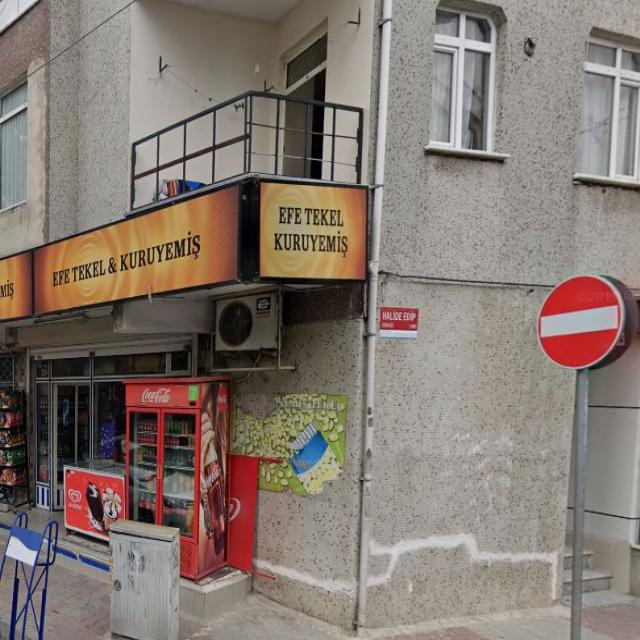girisyok: (536, 274, 622, 370)
